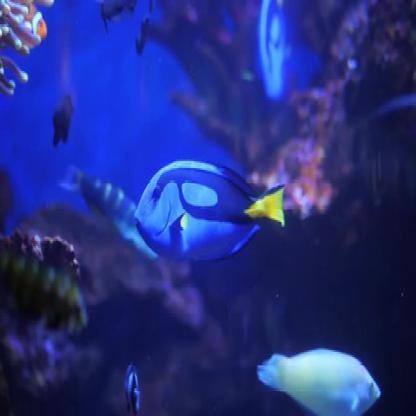Bio: (134, 154, 286, 262)
